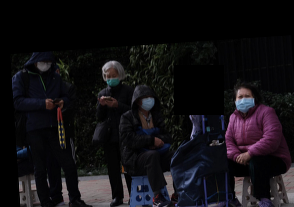with_mask: (232, 91, 256, 116), (35, 57, 53, 73), (139, 94, 155, 111), (104, 71, 119, 87)
